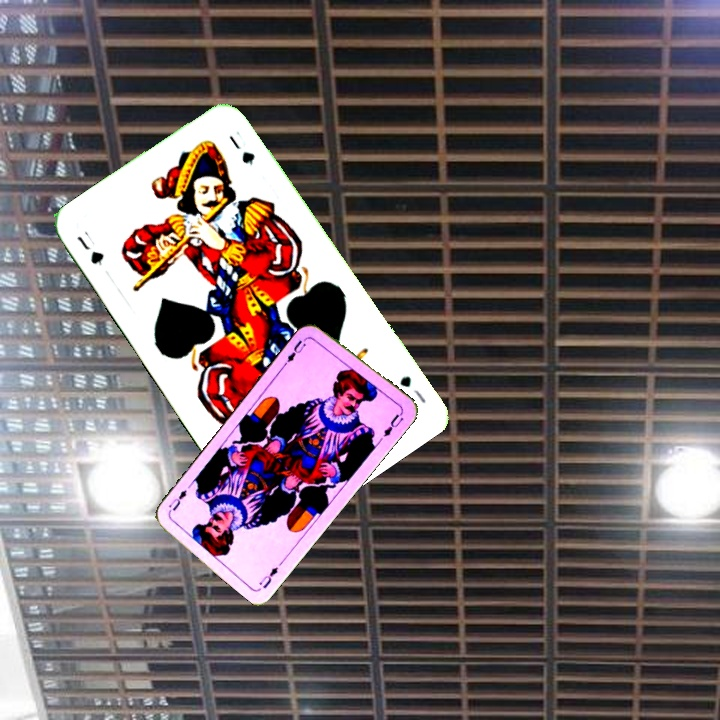EU: (281, 333, 313, 369), (255, 562, 281, 591)
GU: (72, 231, 107, 269), (395, 371, 429, 406)
